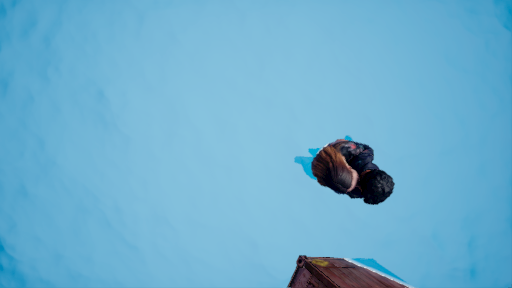person: (293, 125, 393, 212)
